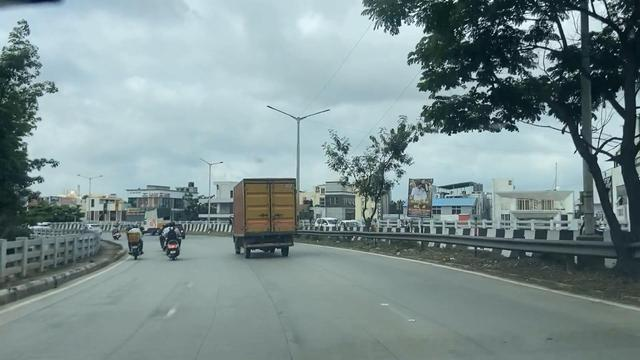HMV: (238, 174, 300, 264)
LMV: (123, 223, 145, 264), (163, 222, 183, 262)
